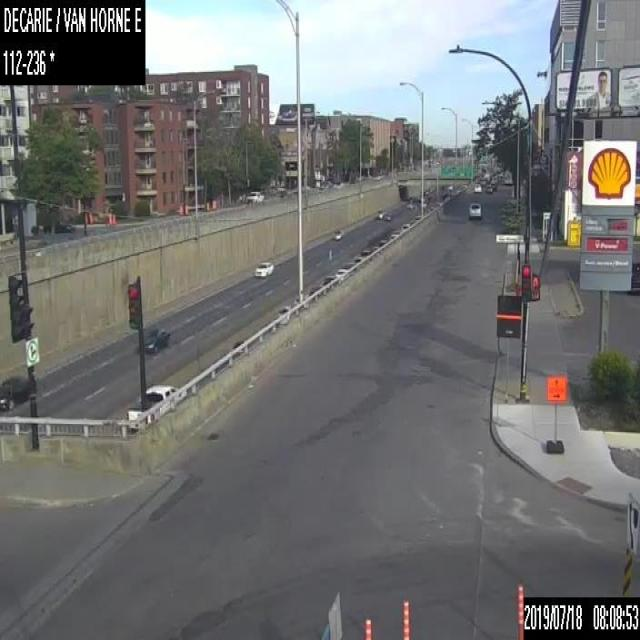construction: (546, 374, 566, 454), (516, 582, 524, 638), (399, 598, 408, 638), (362, 617, 371, 639), (178, 203, 182, 215), (88, 213, 92, 223), (211, 199, 215, 209), (111, 214, 115, 224), (184, 204, 187, 214), (84, 211, 86, 224), (108, 212, 110, 224), (206, 201, 208, 210)
vehicle: (126, 382, 178, 418), (0, 373, 28, 411), (143, 327, 168, 353), (254, 260, 274, 276), (466, 200, 482, 217), (246, 190, 264, 202), (333, 227, 343, 239), (376, 208, 384, 218), (474, 182, 481, 190), (384, 212, 392, 219), (486, 184, 492, 192)
